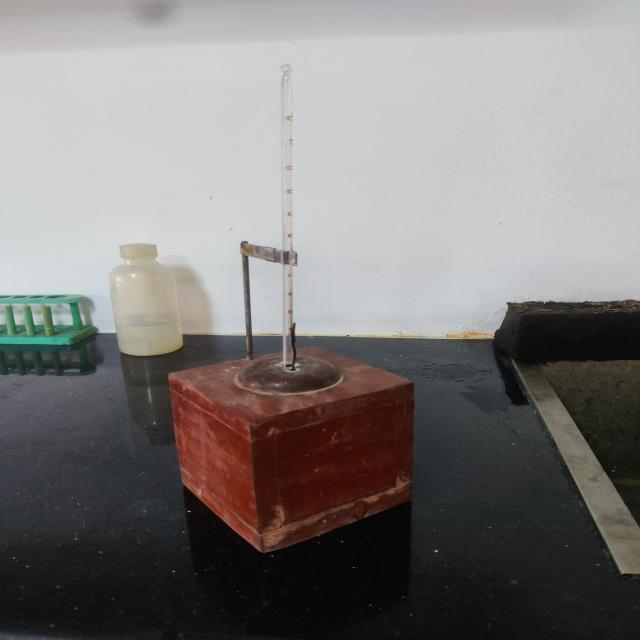Calorimeter: (157, 27, 440, 570)
